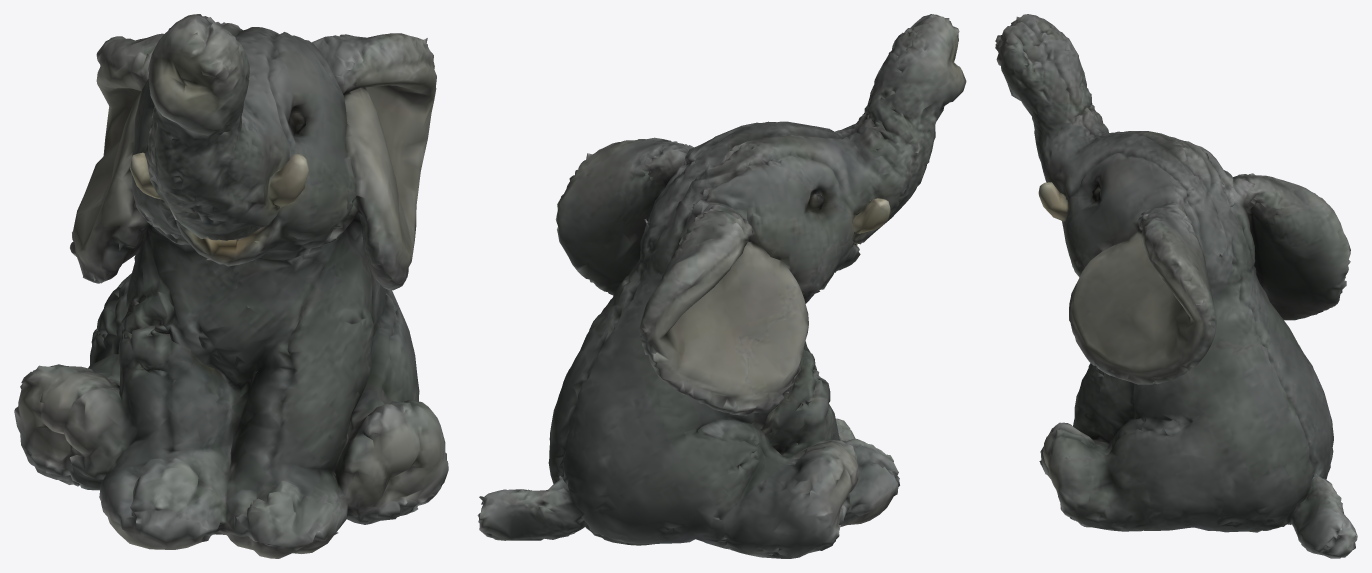
File: google-plush-elephant.glb
3 views of the same model, side by side, from view 1: azimuth 30°, elevation 25°; view 2: azimuth 150°, elevation 25°; view 3: azimuth 270°, elevation 25° (orthographic). The views are drawn at different scales.
Visible parts, largest first — view 1: Node; view 2: Node; view 3: Node.
Boxes of the visible parts, x1=… form: Node: x1=14, y1=14, x2=448, y2=558; Node: x1=477, y1=14, x2=966, y2=558; Node: x1=995, y1=14, x2=1357, y2=558.
Bounding box in the file's own units: 0.1913 × 0.2705 × 0.2096.
Materials: 1 (1 with a texture image).
